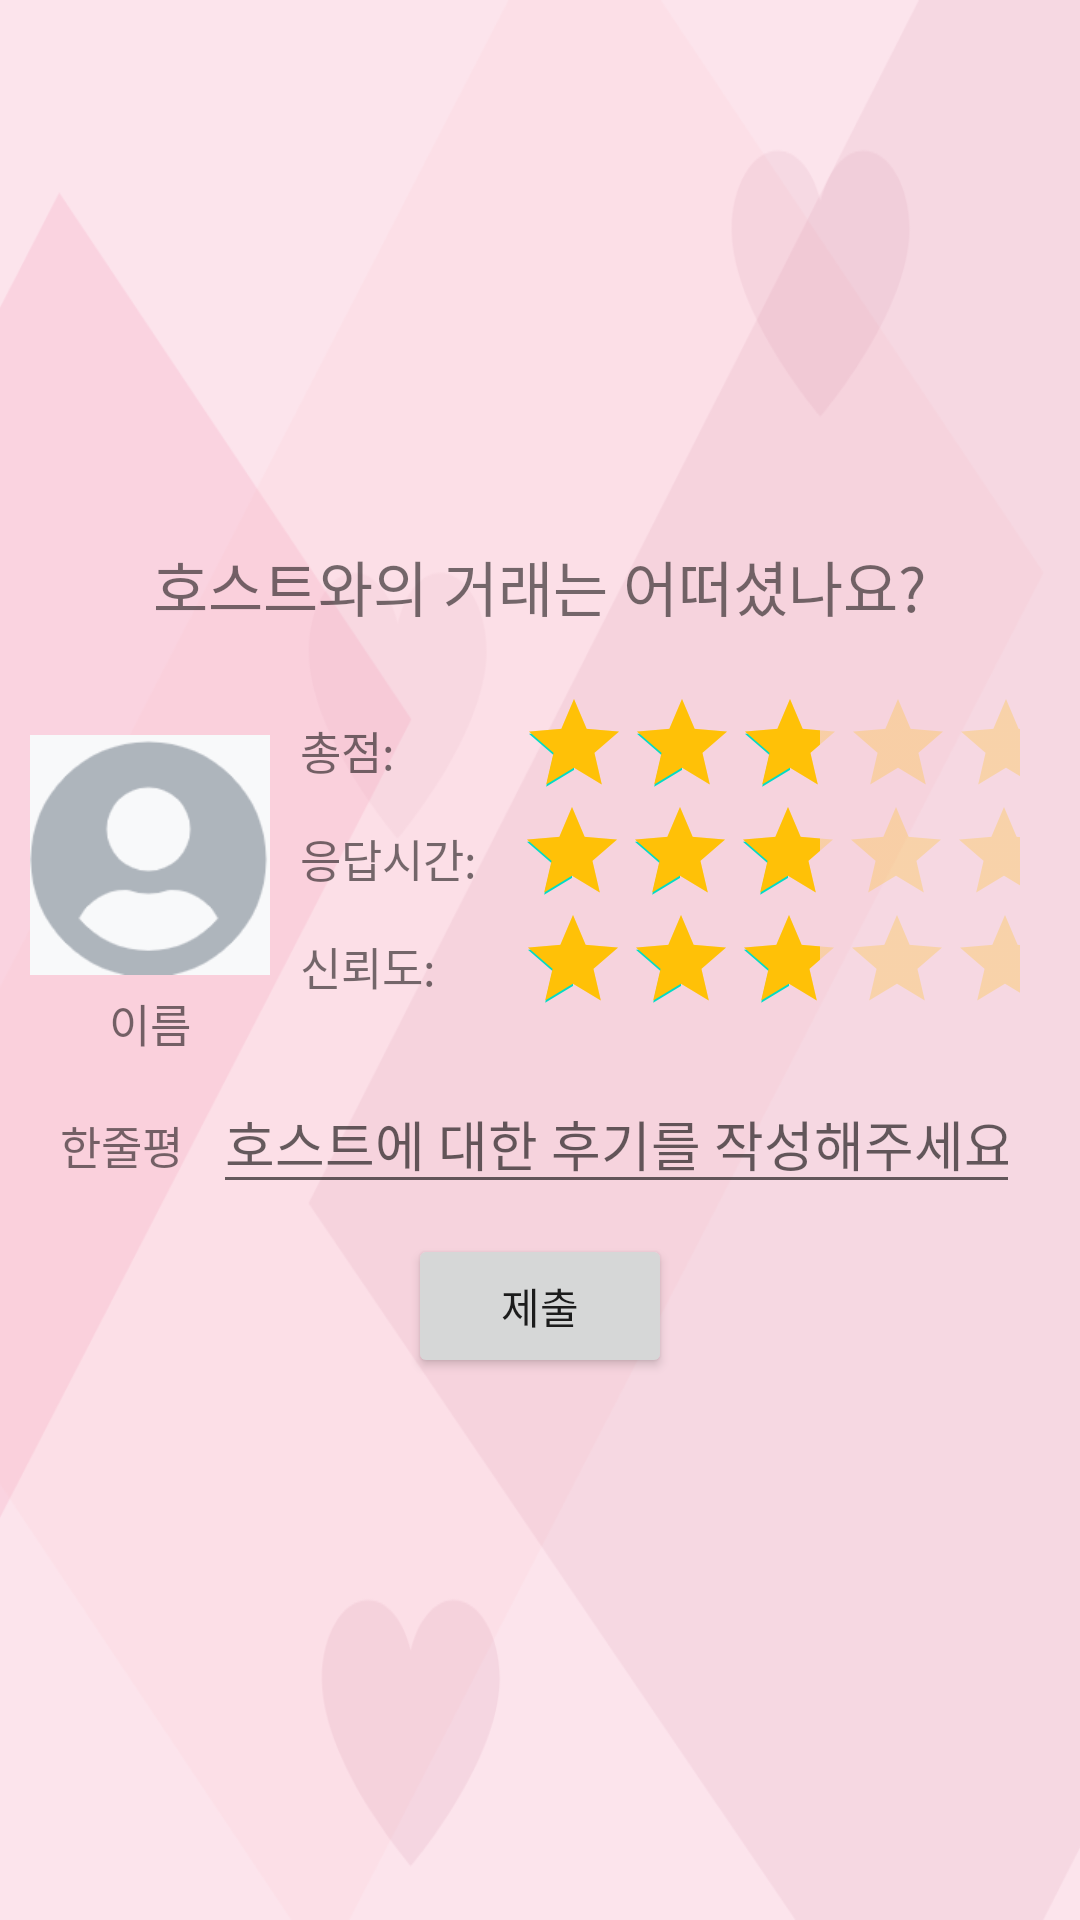

Named icons in this screenshot (1080 × 1920) and their bounding boxes, (x1, y1, x2, y2):
profile pic: (30, 735, 270, 975)
